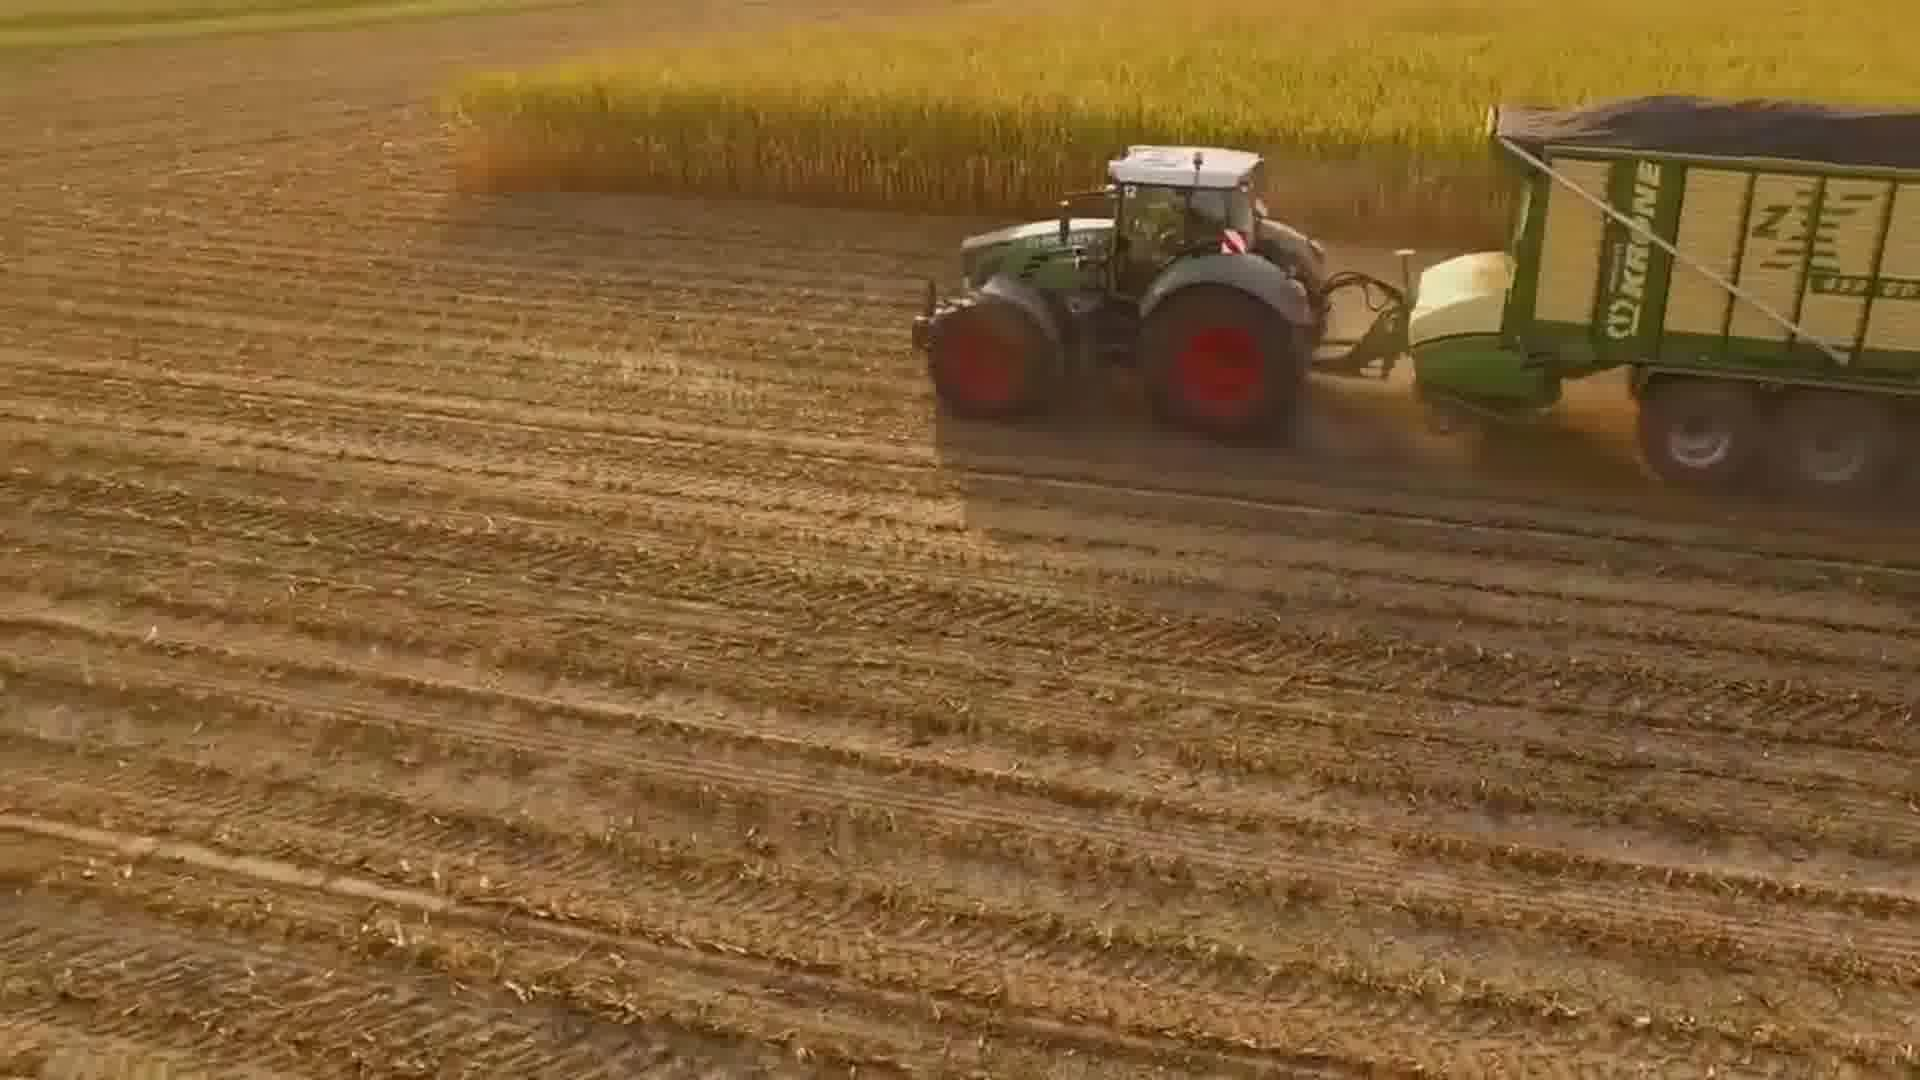tractor: (900, 136, 1339, 454)
trailer: (1368, 84, 1920, 539)
